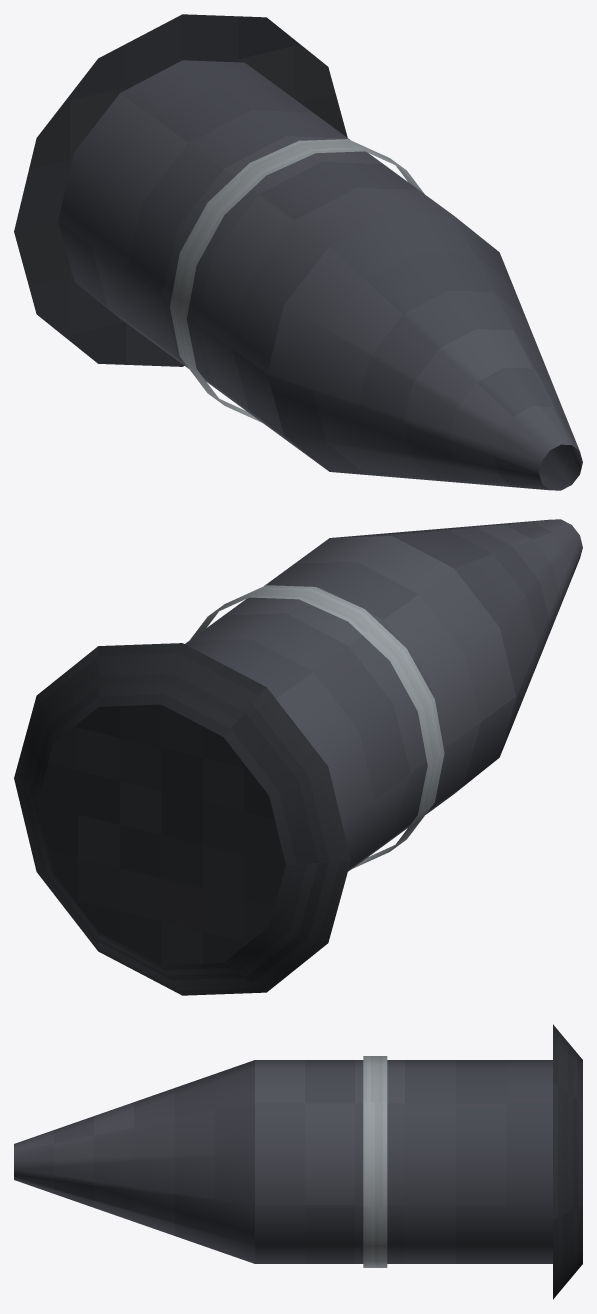
Rendered from missile_rv.glb.
The picture shows the model from 3 angles, top to bottom: view 1: azimuth 30°, elevation 25°; view 2: azimuth 150°, elevation 25°; view 3: azimuth 270°, elevation 25°; orthographic projection. The views are drawn at different scales.
Parts seen in each view (by area): view 1: body; view 2: body; view 3: body.
Boxes of the visible parts, <box> form: body: <box>14,14,582,490</box>; body: <box>14,519,582,995</box>; body: <box>14,1024,582,1299</box>.
Bounding box in the file's own units: 0.46 × 0.46 × 0.945.
Materials: 1 (1 with a texture image).
